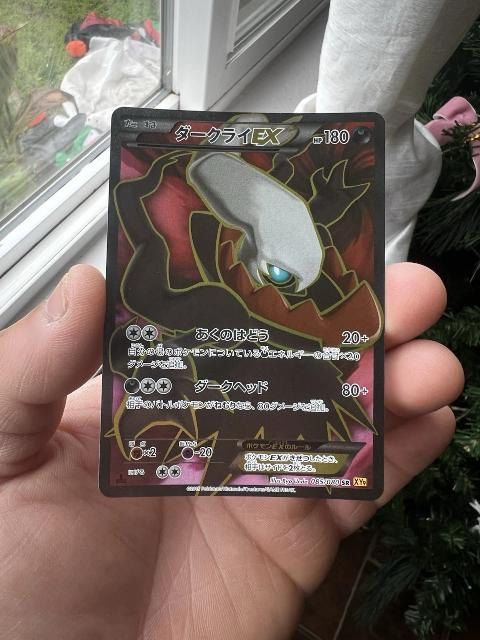Card: (95, 103, 387, 504)
Name: (168, 121, 291, 149)
